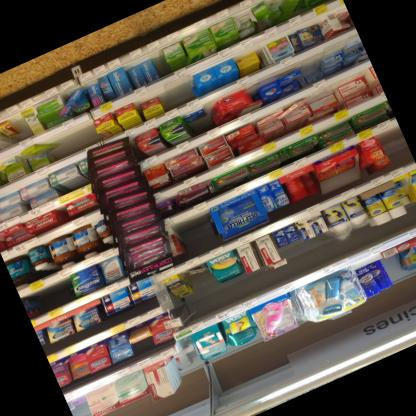empty_space: (170, 208, 217, 253), (53, 118, 96, 155), (374, 121, 411, 163), (32, 277, 70, 311), (162, 73, 195, 106)
